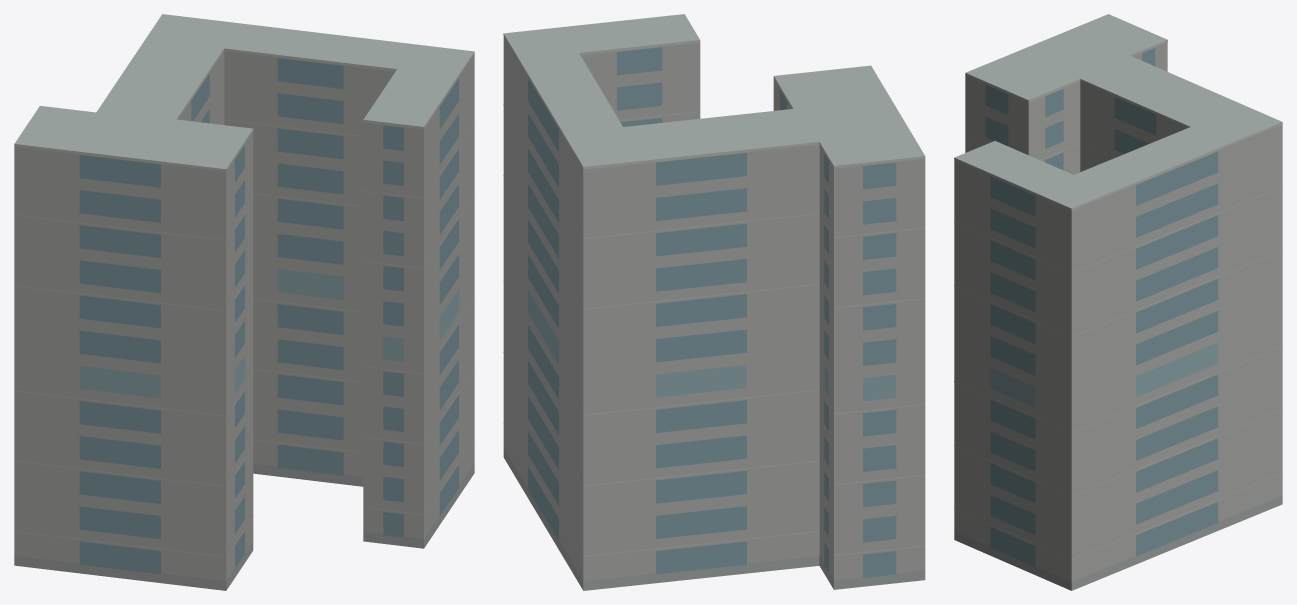
Rendered from residential-622febdd-4411-436b-bcd5-05a6d878c0a2.glb.
3 views of the same model, side by side, from view 1: azimuth 30°, elevation 25°; view 2: azimuth 150°, elevation 25°; view 3: azimuth 270°, elevation 25° (orthographic). The views are drawn at different scales.
Parts seen in each view (by area): view 1: residential-622febdd-4411-436b-bcd5-05a6d878c0a2.tmp; view 2: residential-622febdd-4411-436b-bcd5-05a6d878c0a2.tmp; view 3: residential-622febdd-4411-436b-bcd5-05a6d878c0a2.tmp.
Boxes of the visible parts, box(x1,y1,x2,y2) form: residential-622febdd-4411-436b-bcd5-05a6d878c0a2.tmp: box(14, 14, 474, 590); residential-622febdd-4411-436b-bcd5-05a6d878c0a2.tmp: box(503, 14, 925, 590); residential-622febdd-4411-436b-bcd5-05a6d878c0a2.tmp: box(954, 14, 1282, 590).
Bounding box in the file's own units: 41.5 × 38 × 29.61.
